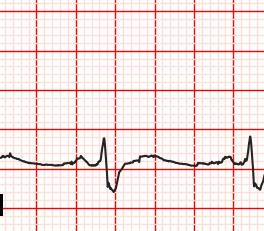Poor R Progression: (95, 135, 109, 168)
ST Depression: (93, 155, 125, 194)
